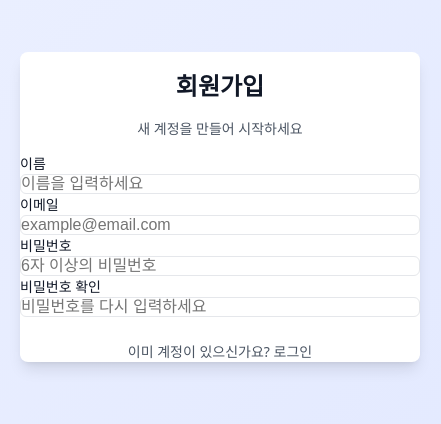
Register 페이지 › 폼 유효성 검증 › 짧은 이름이면 에러가 표시된다
In the field labelled "이름": (220, 184) [20,174,420,194], type "가"
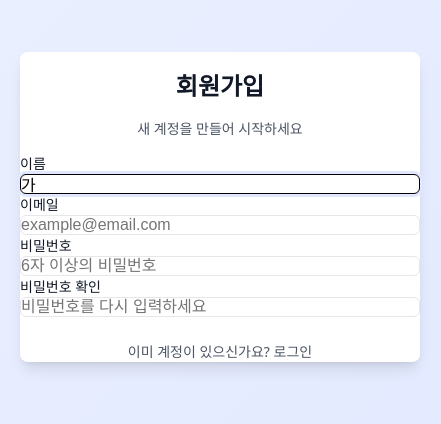
Click the button "회원가입": (220, 329) [20,317,420,341]
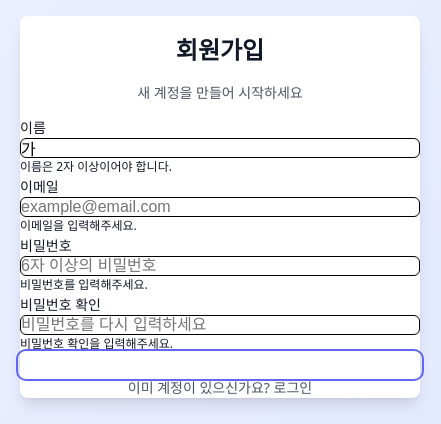
Expected: the text "이름은 2자 이상이어야 합니다." is shown, [20,158,172,175]
